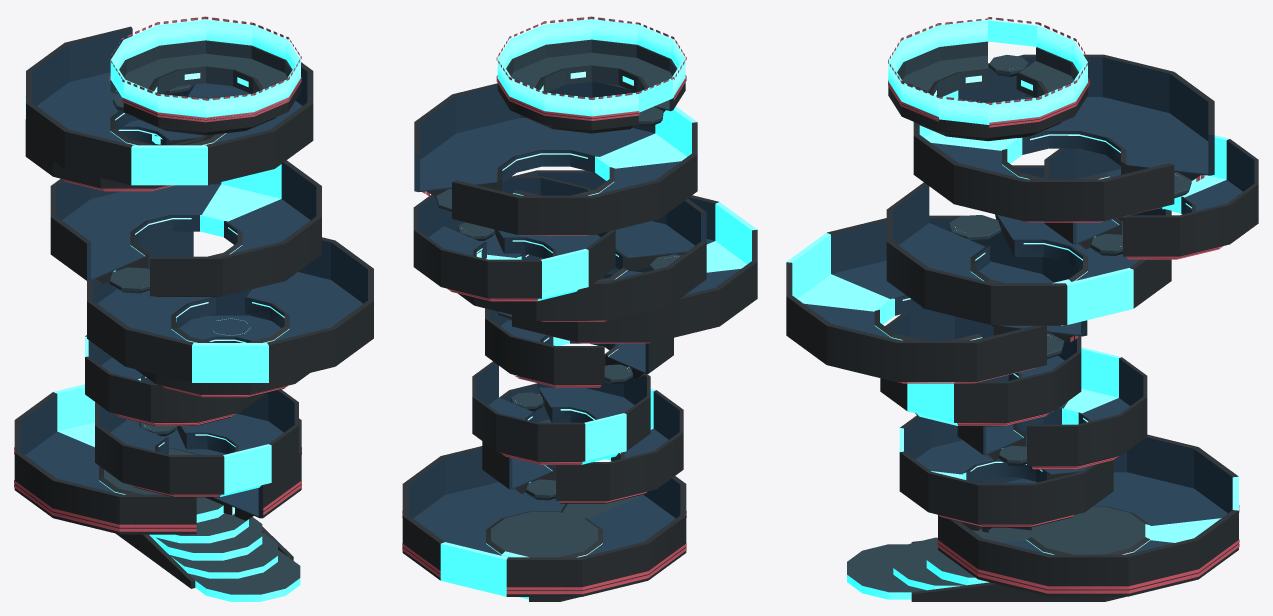
Rendered from aero-station-01-art.glb.
3 views of the same model, side by side, from view 1: azimuth 30°, elevation 25°; view 2: azimuth 150°, elevation 25°; view 3: azimuth 270°, elevation 25° (orthographic). The views are drawn at different scales.
Parts seen in each view (by area): view 1: Aero_Station_01_Art; view 2: Aero_Station_01_Art; view 3: Aero_Station_01_Art.
Boxes of the visible parts, left/top/right/bottom form: Aero_Station_01_Art: left=14, top=16, right=373, bottom=601; Aero_Station_01_Art: left=402, top=16, right=757, bottom=601; Aero_Station_01_Art: left=786, top=17, right=1258, bottom=601.
Size of the model in its own units: 15.32 by 29.05 by 23.97.
7 materials, 3 textured.
